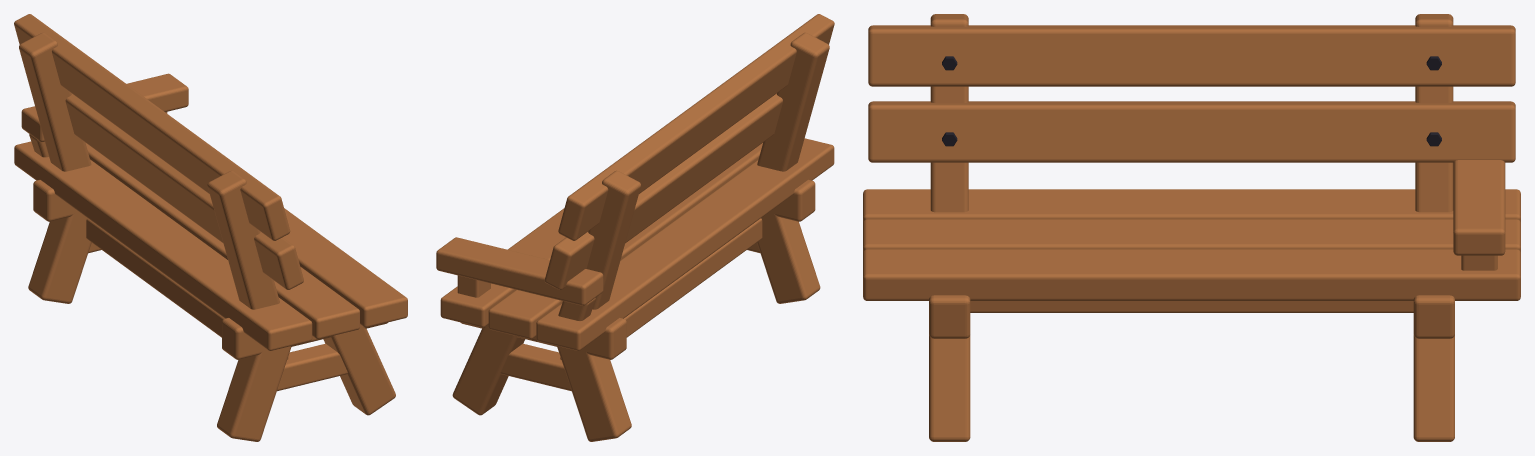
3 views of the same model, side by side, from view 1: azimuth 30°, elevation 25°; view 2: azimuth 150°, elevation 25°; view 3: azimuth 270°, elevation 25° (orthographic). The views are drawn at different scales.
Visible parts, largest first — view 1: body; view 2: body; view 3: body, fasteners.
Boxes of the visible parts, bbox=[...] form: body: bbox=[14, 14, 407, 441]; body: bbox=[436, 14, 834, 441]; body: bbox=[863, 14, 1520, 441]; fasteners: bbox=[942, 56, 1441, 146].
Bounding box in the file's own units: 0.7542 × 1.09 × 1.9.
